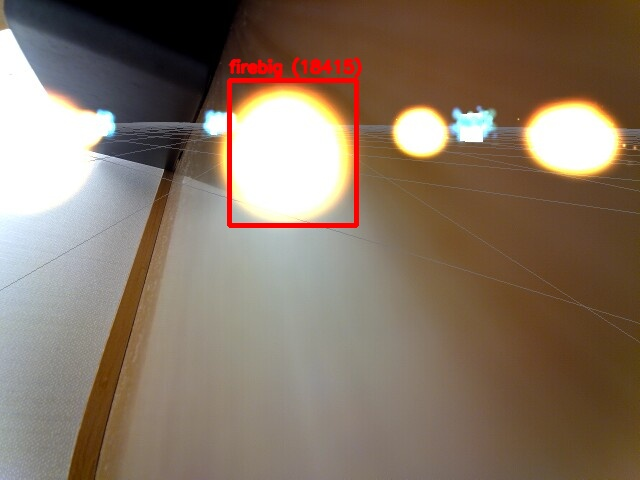firebig: (229, 80, 356, 225)
